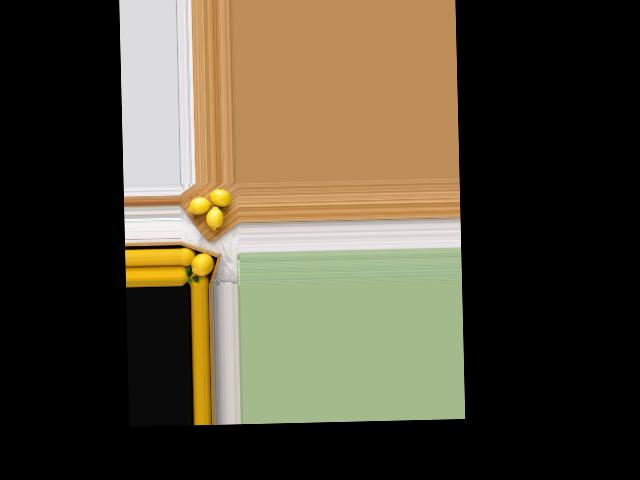lemon: (208, 186, 235, 211)
